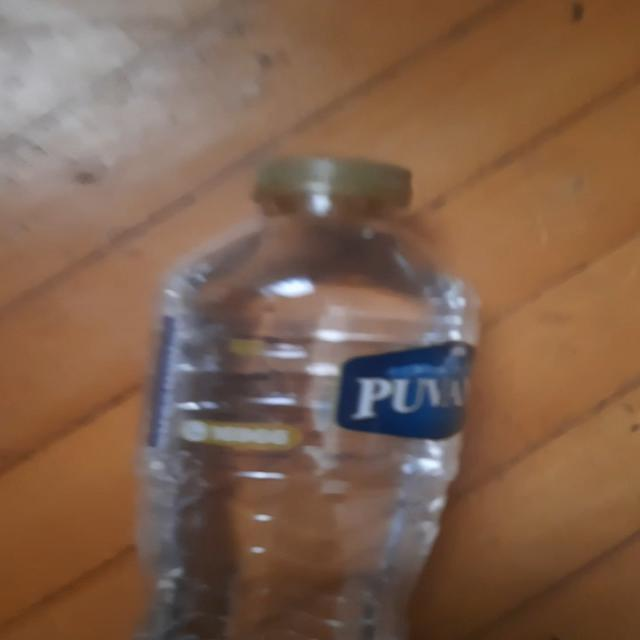Plastic: (129, 155, 483, 640)
